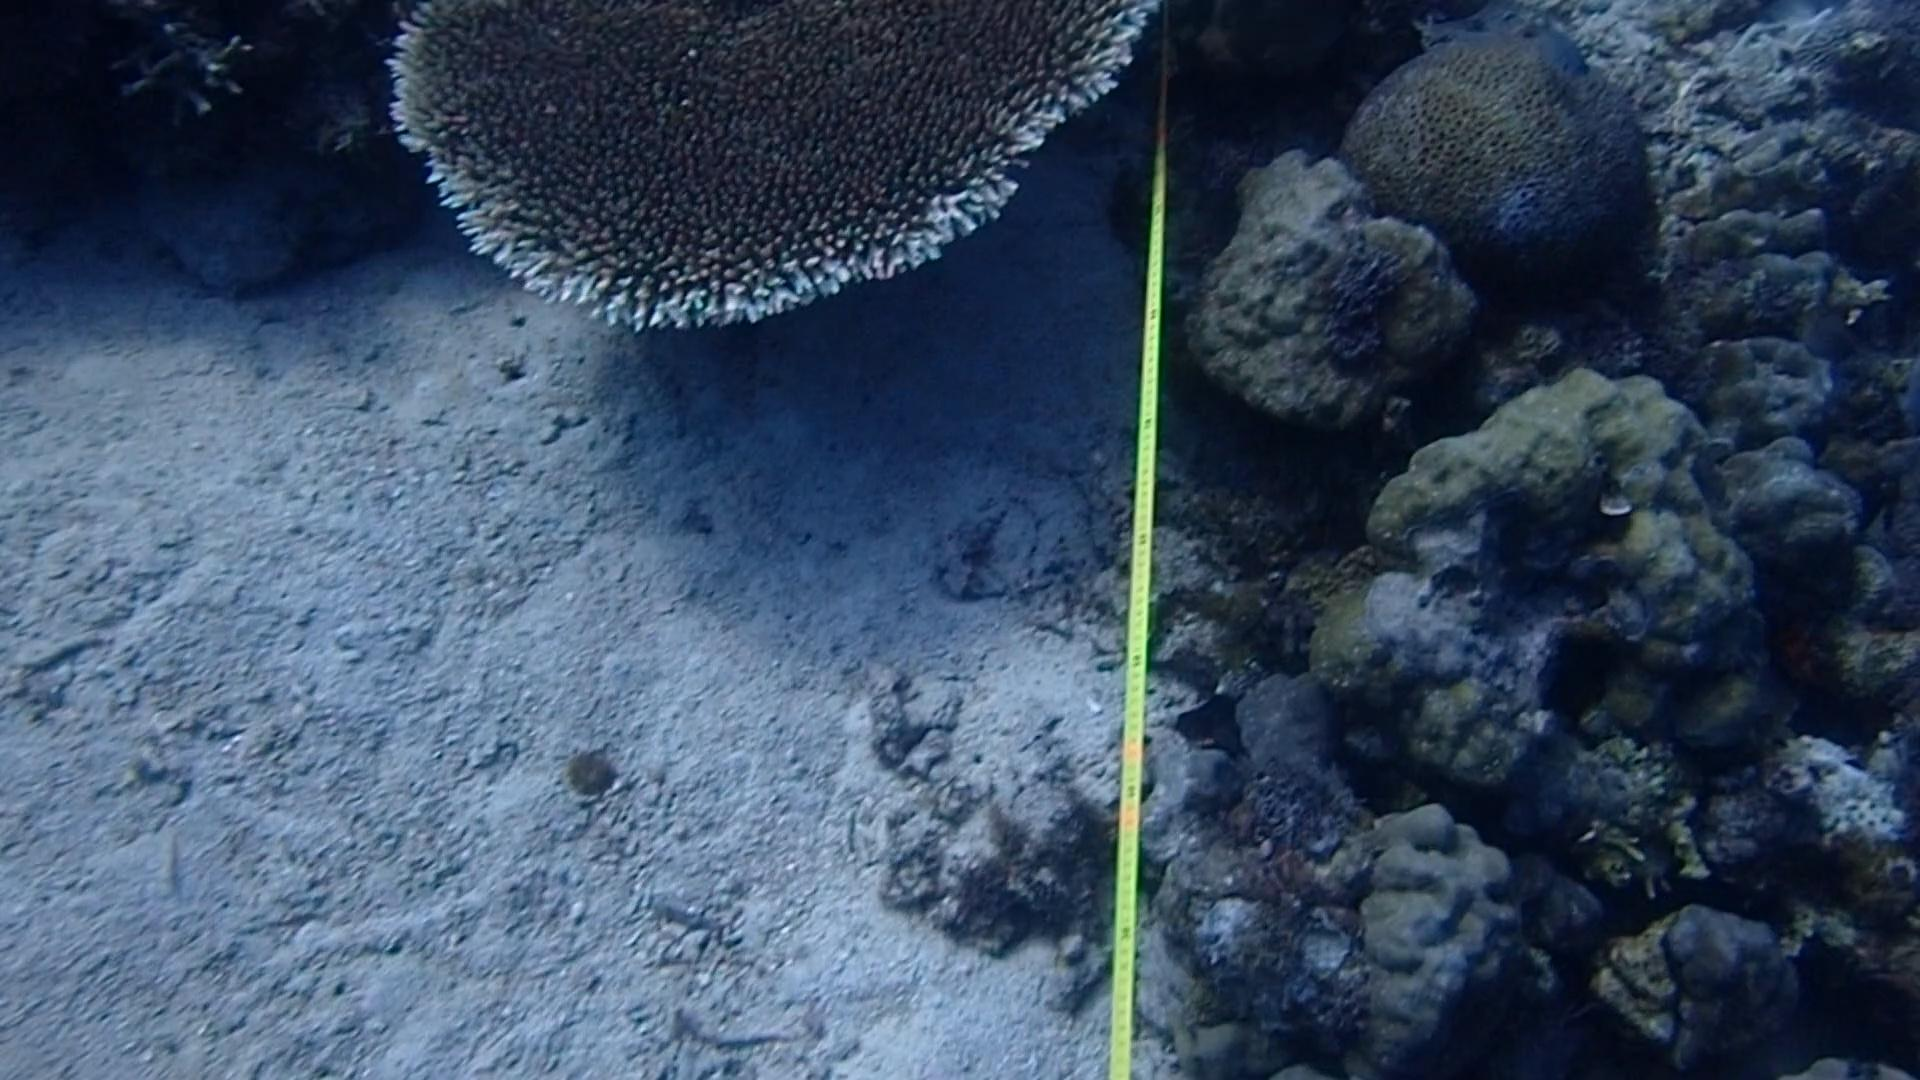Light Fish: (1514, 7, 1602, 91)
